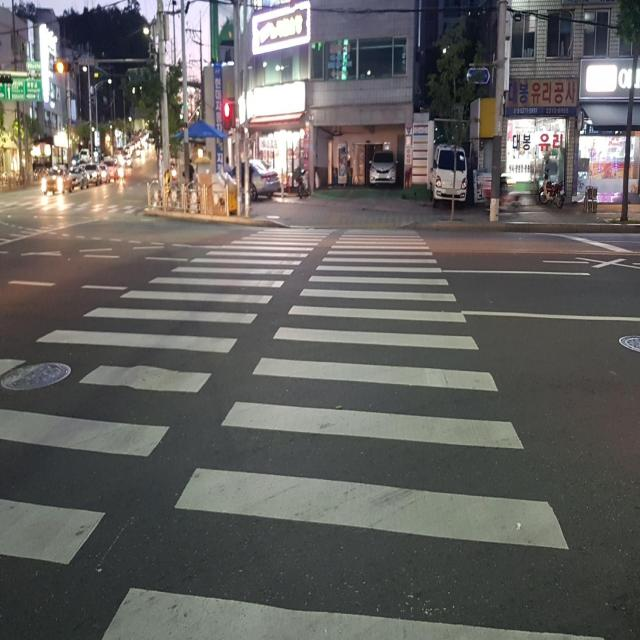초록불: (222, 98, 231, 132)
횡단보도: (0, 223, 610, 639)
